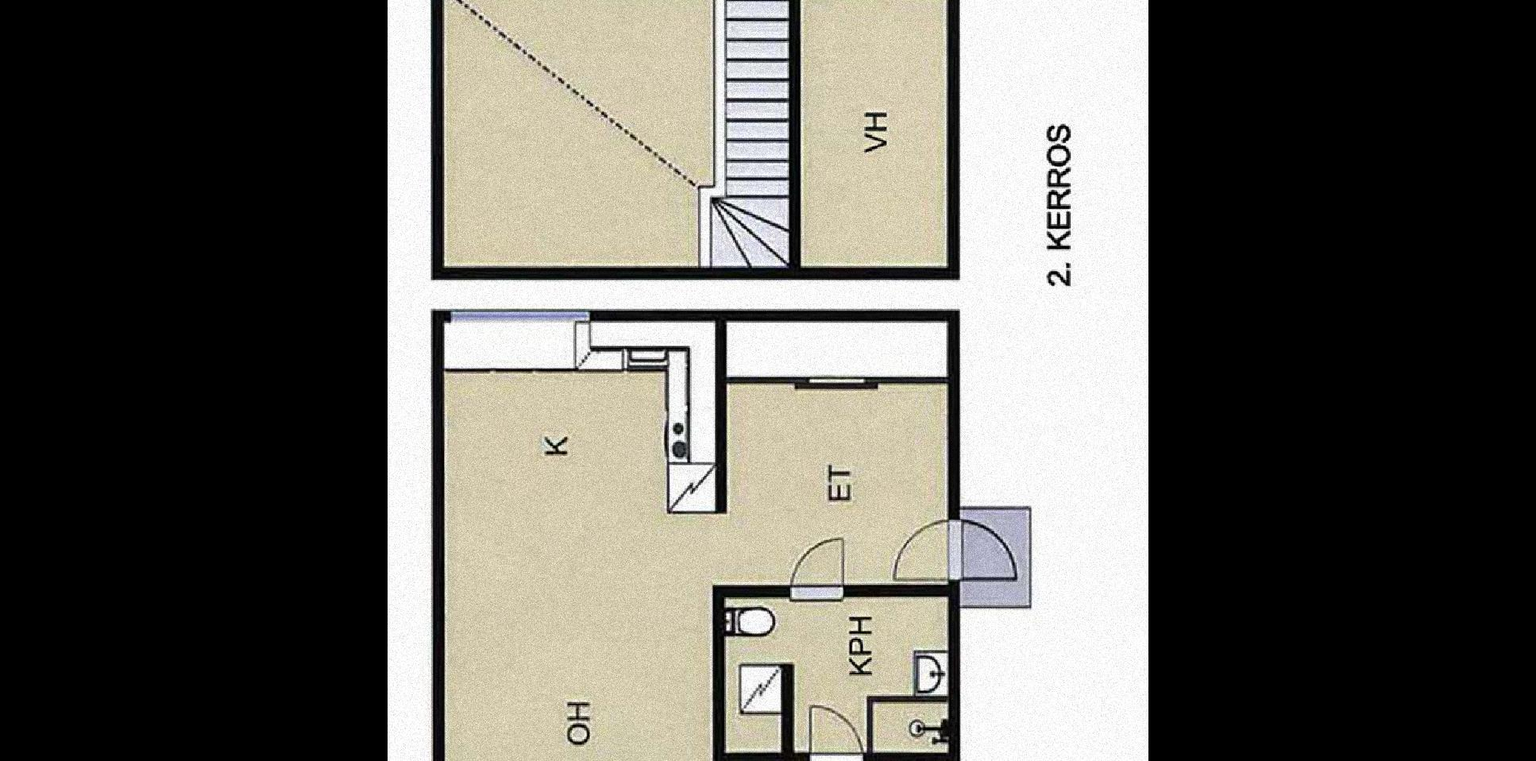door: (891, 518, 1010, 579), (791, 524, 851, 604), (811, 701, 860, 761)
window: (453, 309, 591, 323)
zone: (446, 320, 719, 761), (442, 0, 718, 265), (721, 319, 947, 574), (799, 0, 944, 261), (728, 597, 948, 757), (715, 0, 793, 267)
